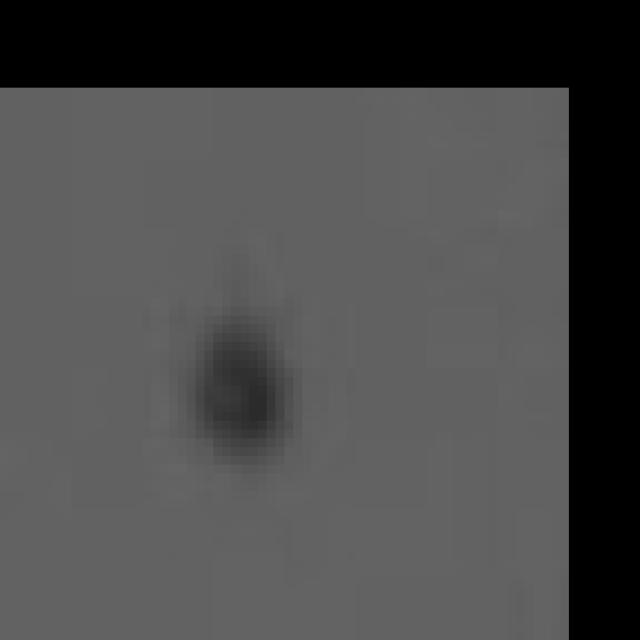Defect2: (124, 263, 368, 521)
